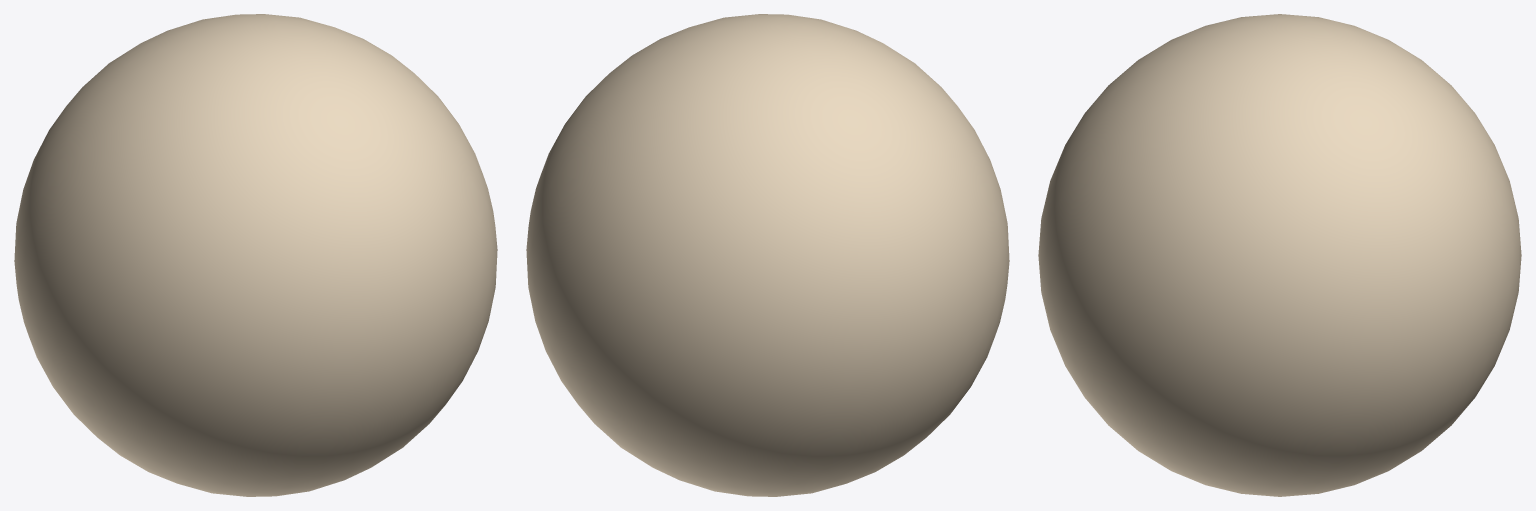
Rendered from jupiter.glb.
3 renders of one model, left to right at view 1: azimuth 30°, elevation 25°; view 2: azimuth 150°, elevation 25°; view 3: azimuth 270°, elevation 25°, orthographic.
Visible parts, largest first — view 1: Icosphere; view 2: Icosphere; view 3: Icosphere.
Part boxes in pixels (bbox=[...]): Icosphere: bbox=[14, 14, 497, 496]; Icosphere: bbox=[526, 14, 1009, 496]; Icosphere: bbox=[1038, 14, 1521, 496].
Bounding box in the file's own units: 0.3 × 0.3 × 0.3.
